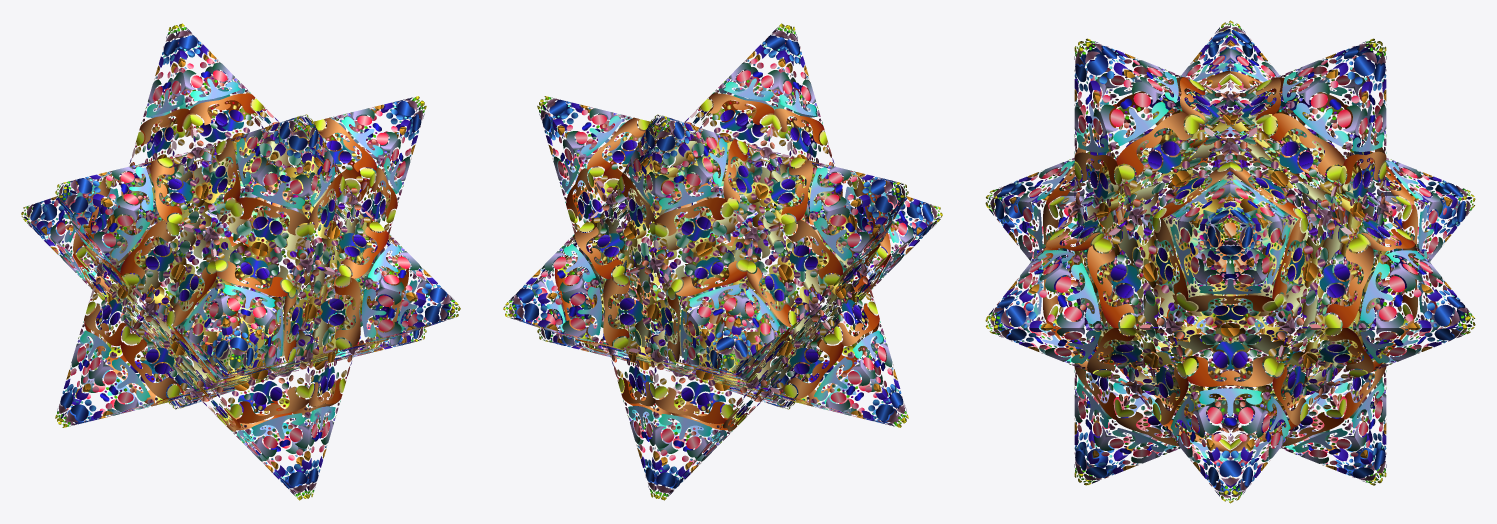
File: SmallStellatedDodecahedron5.obj
3 renders of one model, left to right at view 1: azimuth 30°, elevation 25°; view 2: azimuth 150°, elevation 25°; view 3: azimuth 270°, elevation 25°, orthographic. The views are drawn at different scales.
Size of the model in its own units: 1 by 1 by 1.
1 material, 1 textured.
